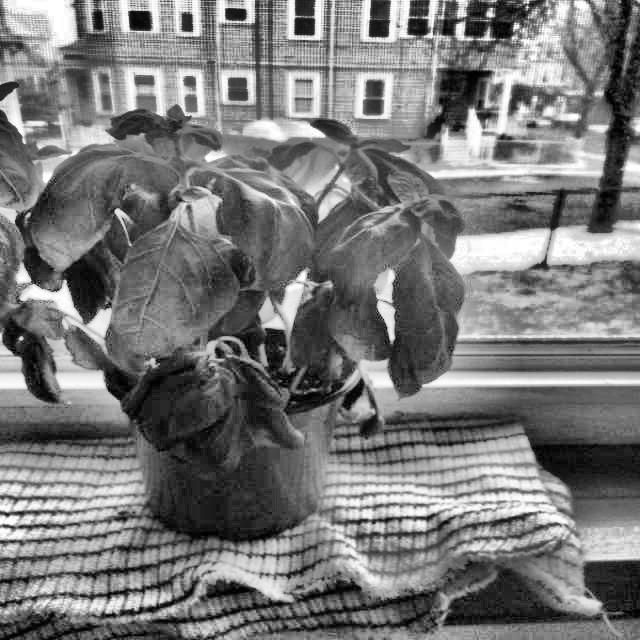plants: (0, 85, 470, 543)
